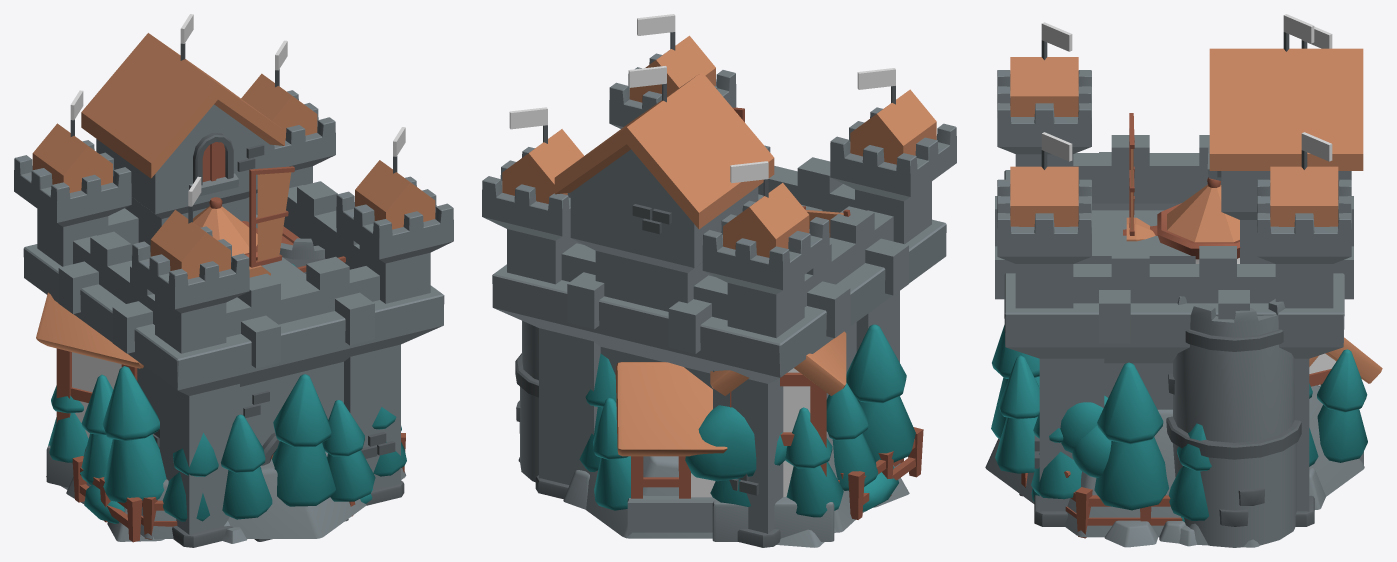
Rendered from kaykit_medieval_obj_demo.gltf.
3 views of the same model, side by side, from view 1: azimuth 30°, elevation 25°; view 2: azimuth 150°, elevation 25°; view 3: azimuth 270°, elevation 25° (orthographic). The views are drawn at different scales.
Parts seen in each view (by area): view 1: castle, forest, barracks, mill, mountain, detail_hill, detail_rocks; view 2: castle, barracks, forest, detail_hill, mountain, detail_rocks; view 3: castle, barracks, forest, mill, mountain, detail_hill, detail_rocks.
Part boxes in pixels (box(x1,y1,x2,y2)): castle: box(14, 14, 453, 547); forest: box(48, 264, 406, 521); barracks: box(36, 214, 324, 542); mill: box(83, 166, 405, 539); mountain: box(140, 451, 406, 538); detail_hill: box(84, 485, 373, 543); detail_rocks: box(46, 447, 164, 541); castle: box(482, 14, 956, 547); barracks: box(515, 321, 923, 541); forest: box(579, 324, 915, 517); detail_hill: box(685, 405, 898, 511); mountain: box(586, 456, 900, 538); detail_rocks: box(518, 431, 909, 547); castle: box(995, 14, 1363, 526); barracks: box(1064, 296, 1382, 547); forest: box(991, 325, 1367, 520); mill: box(1065, 113, 1240, 538); mountain: box(985, 385, 1364, 547); detail_hill: box(1031, 395, 1184, 521); detail_rocks: box(1159, 468, 1325, 547).
Bounding box in the file's own units: 1.99 × 2.56 × 2.
